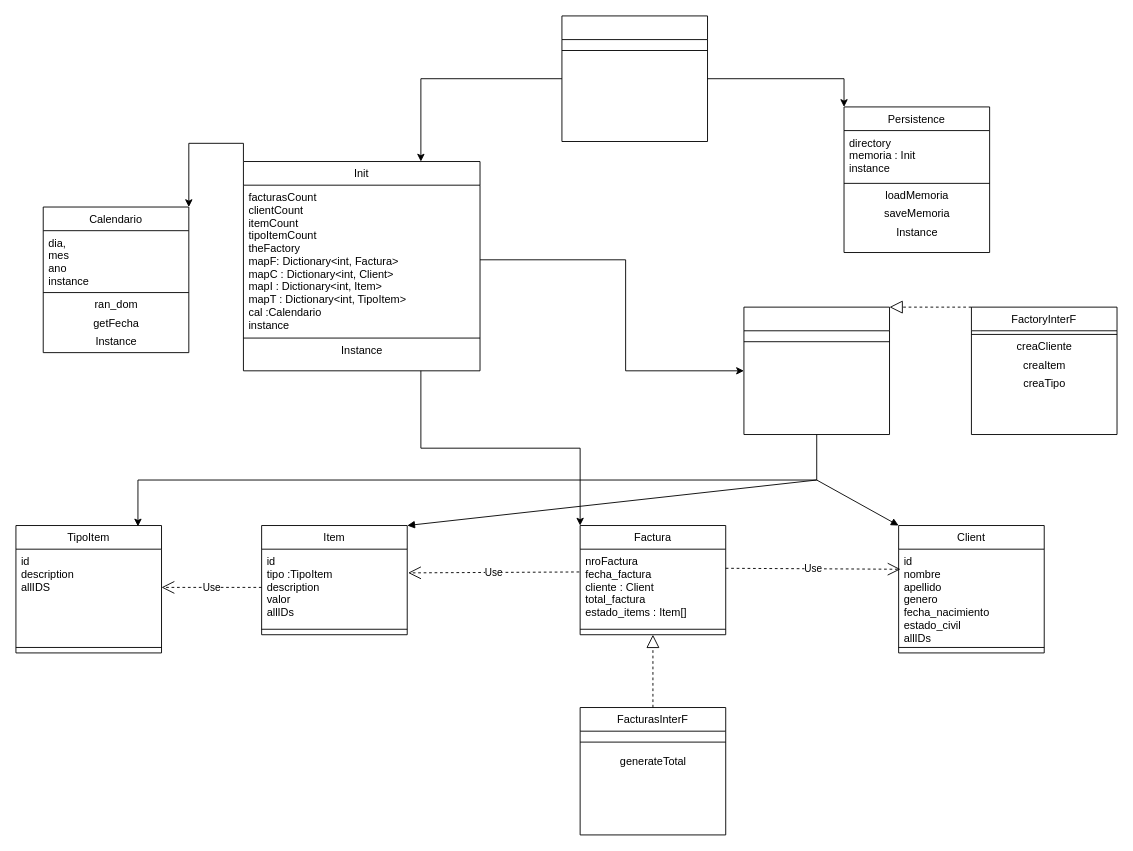
This 1133x851 diagram has some shape labels left out. Here are the shapes that lost their labels. From the top down, the centre of each, then its label:
[634,78]: Ventanas
[816,370]: Factory
